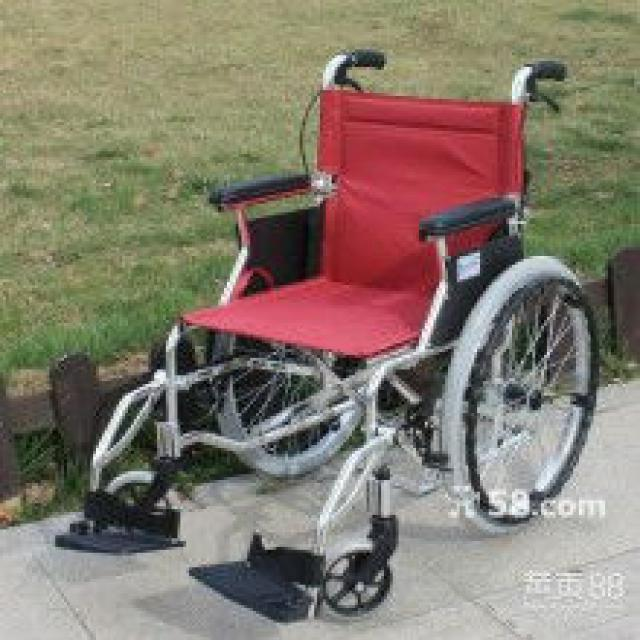wheelchairs: (61, 51, 594, 617)
